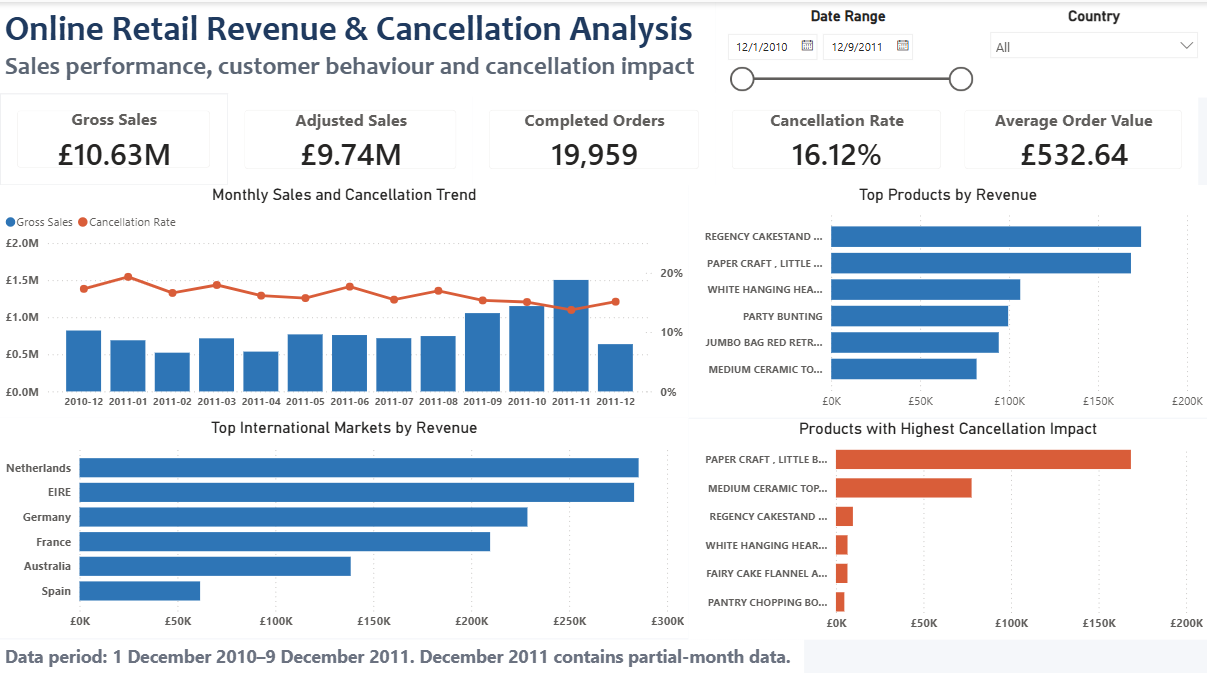

This screenshot's page, from the dashboard's own definition file:
{"tool":"powerbi","page":{"name":"Page 1","canvas":[1280,720],"ordinal":0},"visuals":[{"type":"textbox","box":[9.5,0,749.2,97],"z":0},{"type":"slicer","title":"Date Range","fields":{"Values":["DateTable.Date"]},"box":[758.7,0,281.5,97],"z":1000},{"type":"slicer","title":"Country","fields":{"Values":["CountryTable.Country"]},"box":[1040.3,0,240.2,101.8],"z":2000},{"type":"cardVisual","fields":{"Data":["sales_transactions.Gross Sales"]},"box":[0,97,241.8,97],"z":3000},{"type":"cardVisual","fields":{"Data":["cancelled_transactions.Adjusted Sales"]},"box":[241.8,97,259.3,97],"z":4000},{"type":"cardVisual","fields":{"Data":["sales_transactions.Average Order Value"]},"box":[1014.8,97,265.6,97],"z":5000},{"type":"cardVisual","fields":{"Data":["sales_transactions.Completed Orders"]},"box":[501,97,257.7,97],"z":6000},{"type":"cardVisual","fields":{"Data":["cancelled_transactions.Cancellation Rate"]},"box":[758.7,97,256.1,97],"z":7000},{"type":"lineClusteredColumnComboChart","title":"Monthly Sales and Cancellation Trend","fields":{"Y":["sales_transactions.Gross Sales"],"Category":["DateTable.Year Month"],"Y2":["cancelled_transactions.Cancellation Value"]},"box":[0,194.1,730.1,246.5],"z":8000},{"type":"clusteredBarChart","title":"Top International Markets","fields":{"Category":["CountryTable.Country"],"Y":["sales_transactions.Gross Sales"]},"box":[0,440.6,730.1,233.8],"z":9000},{"type":"clusteredBarChart","title":"Top Products by Revenue","fields":{"Category":["sales_transactions.Description"],"Y":["sales_transactions.Gross Sales"]},"box":[730.1,194.1,550.4,246.5],"z":10000},{"type":"clusteredBarChart","title":"Products with Highest Cancellation Impact","fields":{"Category":["cancelled_transactions.Description"],"Y":["cancelled_transactions.Cancellation Value"]},"box":[730.1,442.2,550.4,233.8],"z":11000},{"type":"textbox","box":[0,674.4,858.9,46.1],"z":12000}]}

Visuals, with their boxes in screenshot pixels (x1, y1, x2, y2), scaled from the page's 1280x720 canvas onto the 1207x673 screenshot:
textbox: (x1=9, y1=0, x2=715, y2=91)
"Date Range" slicer: (x1=715, y1=0, x2=981, y2=91)
"Country" slicer: (x1=981, y1=0, x2=1206, y2=95)
cardVisual - sales_transactions.Gross Sales: (x1=0, y1=91, x2=228, y2=181)
cardVisual - cancelled_transactions.Adjusted Sales: (x1=228, y1=91, x2=473, y2=181)
cardVisual - sales_transactions.Average Order Value: (x1=957, y1=91, x2=1206, y2=181)
cardVisual - sales_transactions.Completed Orders: (x1=472, y1=91, x2=715, y2=181)
cardVisual - cancelled_transactions.Cancellation Rate: (x1=715, y1=91, x2=957, y2=181)
"Monthly Sales and Cancellation Trend" lineClusteredColumnComboChart: (x1=0, y1=181, x2=688, y2=412)
"Top International Markets" clusteredBarChart: (x1=0, y1=412, x2=688, y2=630)
"Top Products by Revenue" clusteredBarChart: (x1=688, y1=181, x2=1206, y2=412)
"Products with Highest Cancellation Impact" clusteredBarChart: (x1=688, y1=413, x2=1206, y2=632)
textbox: (x1=0, y1=630, x2=810, y2=672)
